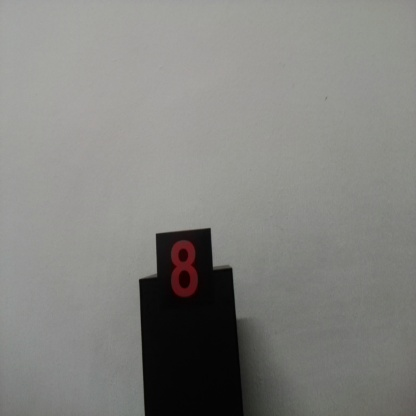id_8: (156, 233, 214, 322)
